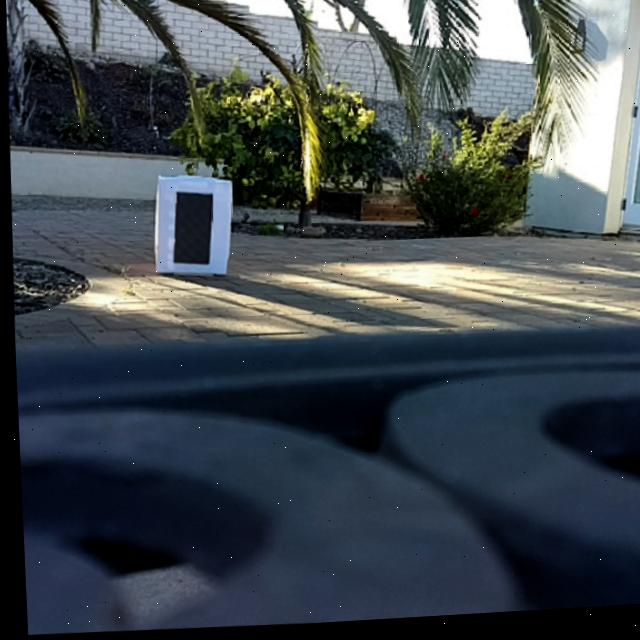led: (176, 192, 212, 271)
